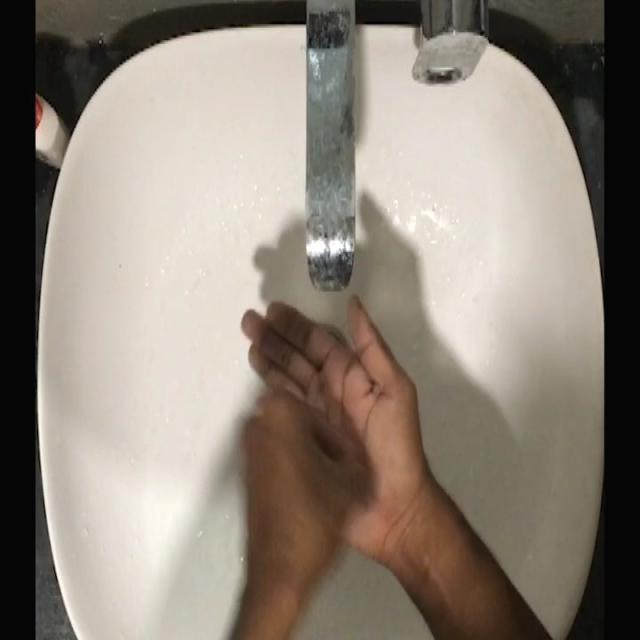step_6: (231, 289, 424, 591)
